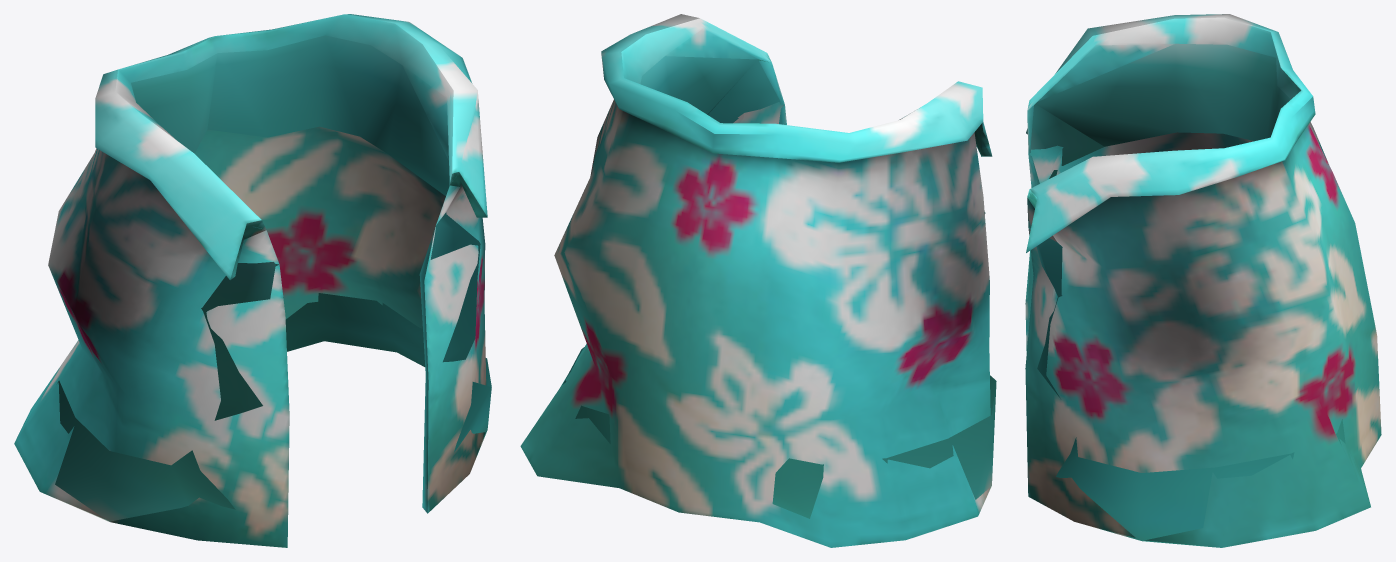
The model's file is c_hawaii.glb.
3 renders of one model, left to right at view 1: azimuth 30°, elevation 25°; view 2: azimuth 150°, elevation 25°; view 3: azimuth 270°, elevation 25°, orthographic. The views are drawn at different scales.
Parts seen in each view (by area): view 1: acc_shirt; view 2: acc_shirt; view 3: acc_shirt.
Boxes of the visible parts, x1,y1,x2,y2 form: acc_shirt: (14,14,491,547); acc_shirt: (520,14,996,547); acc_shirt: (1025,14,1381,547).
Size of the model in its own units: 0.5251 by 0.4607 by 0.3902.
Materials: 1 (1 with a texture image).
